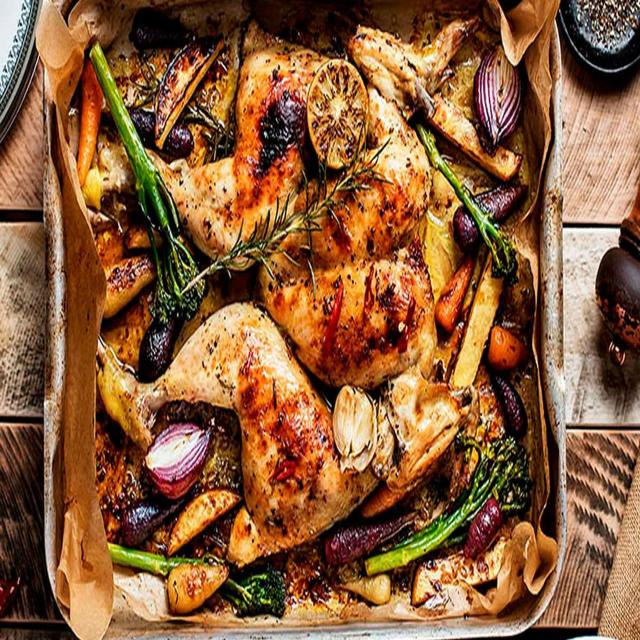pollo: (137, 299, 410, 577)
